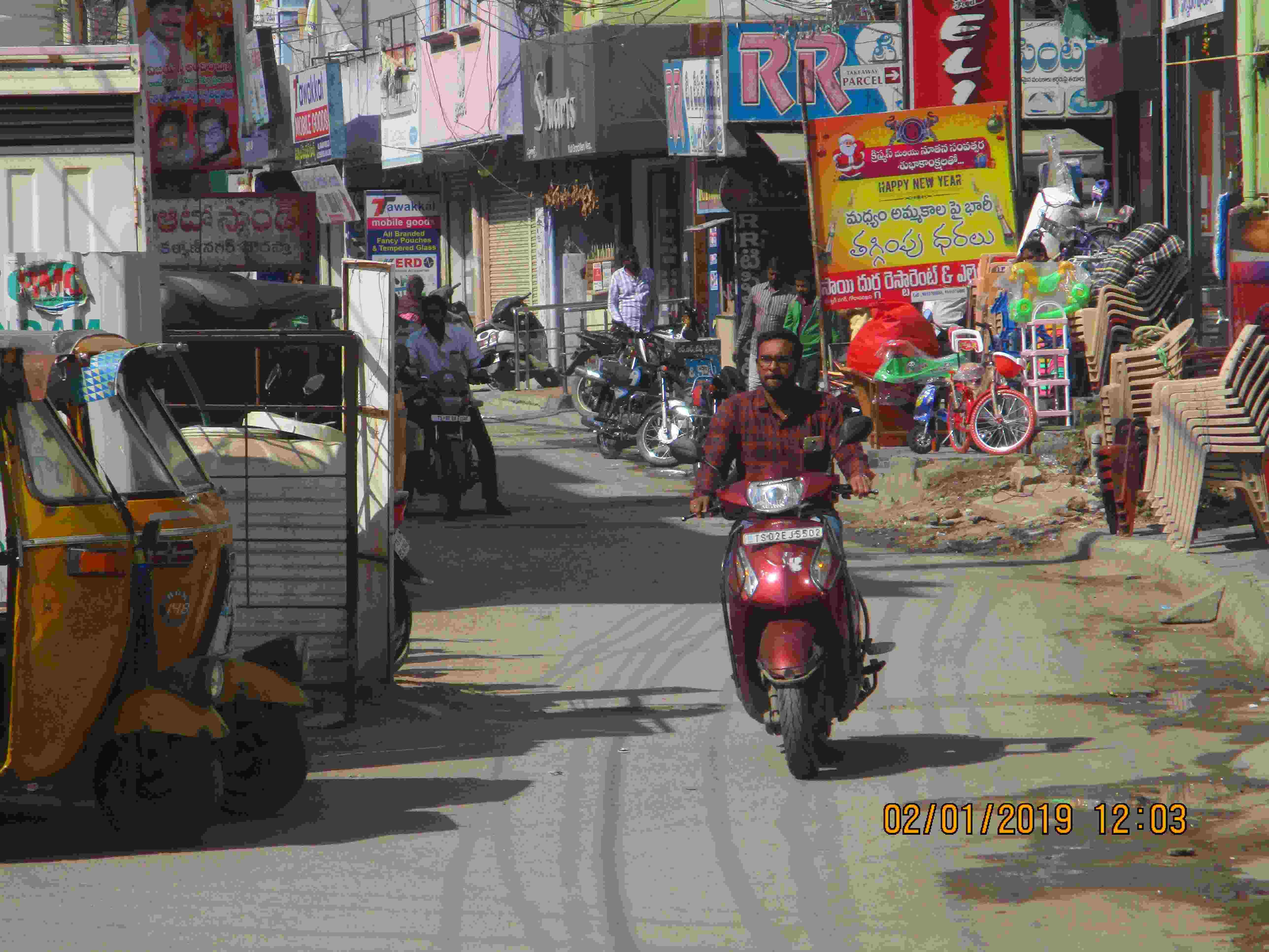plate: (728, 519, 835, 557)
